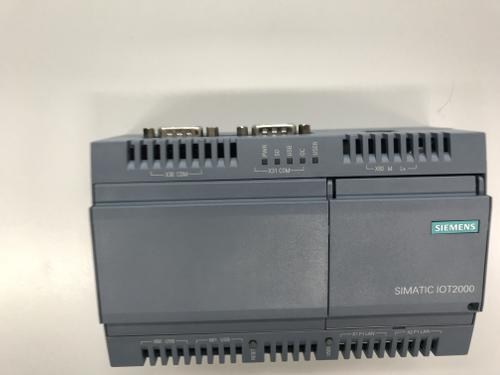device: (89, 124, 493, 368)
